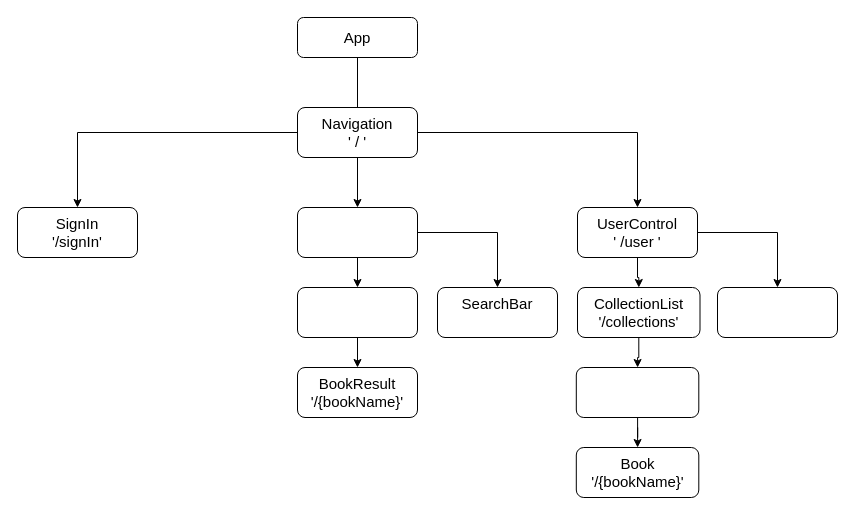
This 855x515 diagram has some shape labels left out. The centre of each missing label's shape, as x and y in pixels:
Collection '/{collectionName}': point 637,392
ResultsList: point 357,312
SearchControl ' /search ': point 357,232
UserDetails '/details': point 777,312
